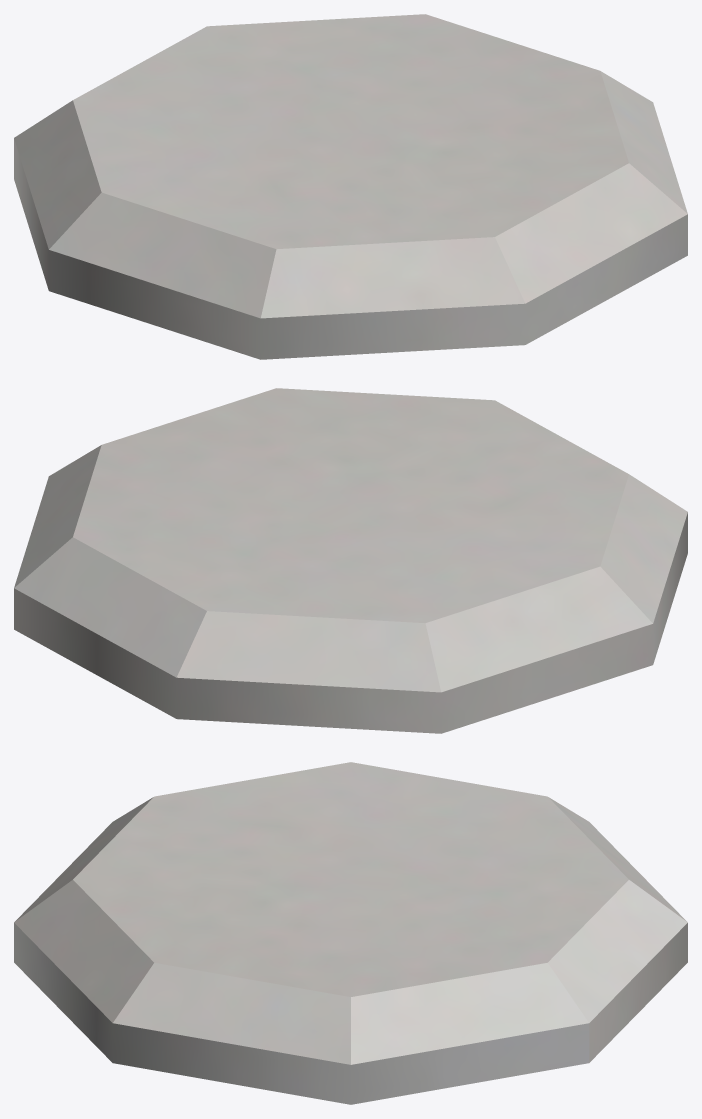
File: plate.FBX
3 renders of one model, top to bottom at view 1: azimuth 30°, elevation 25°; view 2: azimuth 150°, elevation 25°; view 3: azimuth 270°, elevation 25°, orthographic. The views are drawn at different scales.
Parts seen in each view (by area): view 1: Cylinder001; view 2: Cylinder001; view 3: Cylinder001.
Part boxes in pixels (x1,y1,x2,y2): Cylinder001: [14, 14, 687, 359]; Cylinder001: [14, 388, 687, 733]; Cylinder001: [14, 762, 687, 1104].
Bounding box in the file's own units: 43.71 × 5.93 × 43.71.
Materials: 1 (1 with a texture image).
